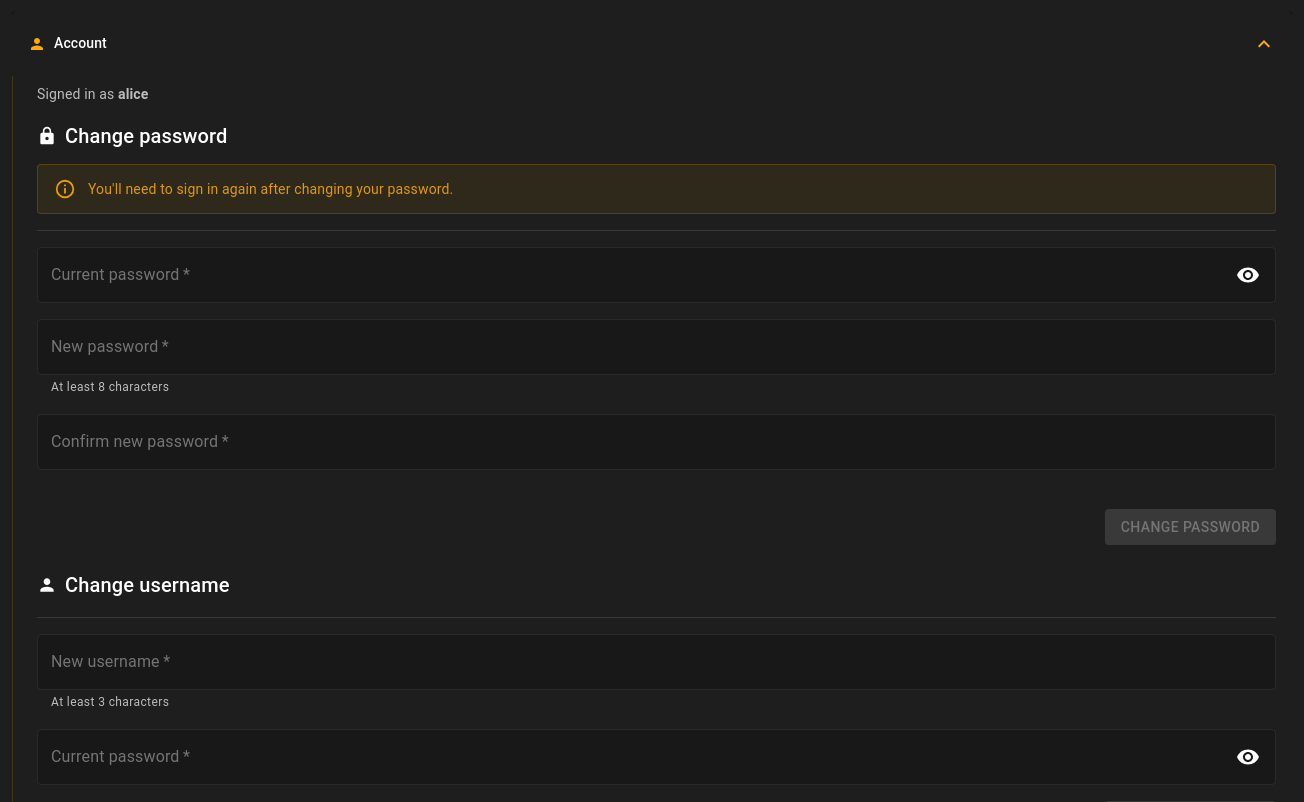
Test: AccountAccordion › toggles password-form inputs to type=text when Show password is clicked
// "Show password" button is the first IconButton with that label
Step 1. Click the 1st button named "show password" → (1248, 275), box 1231,258 -> 1265,292
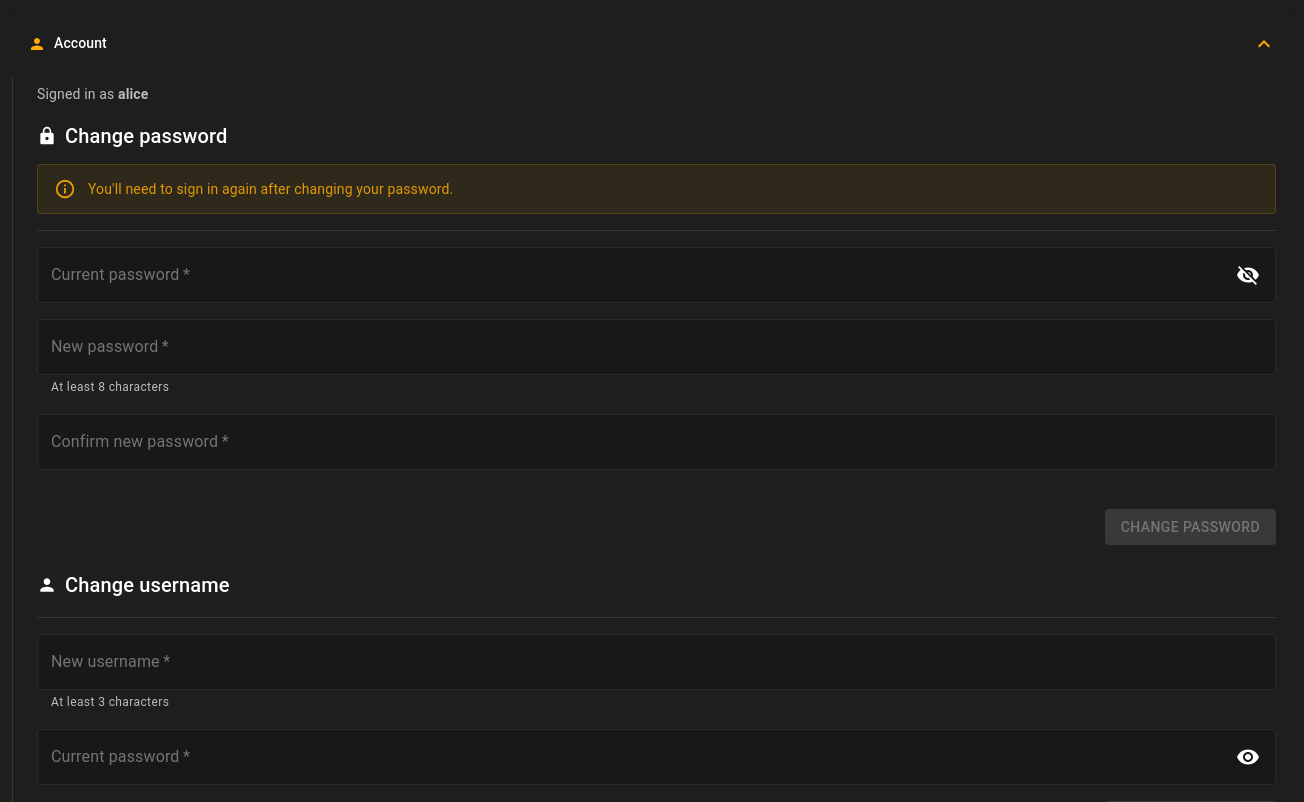
Expected: the button named "hide password" is shown, 1231,258 -> 1265,292
